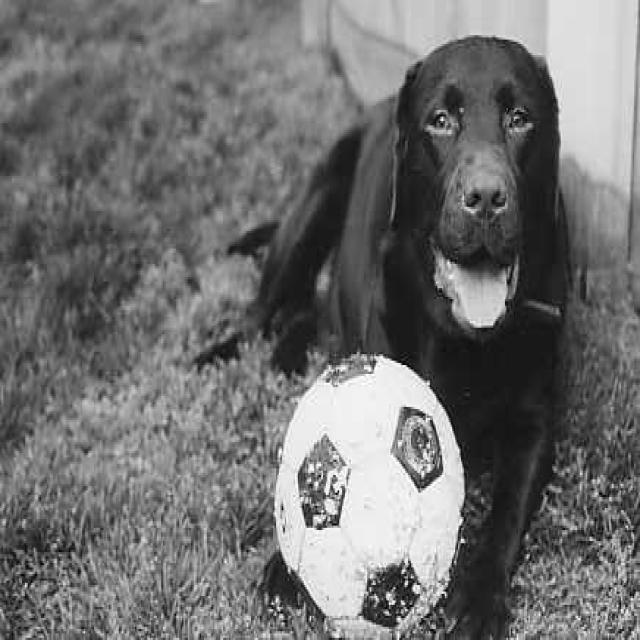ball: (276, 353, 468, 640)
